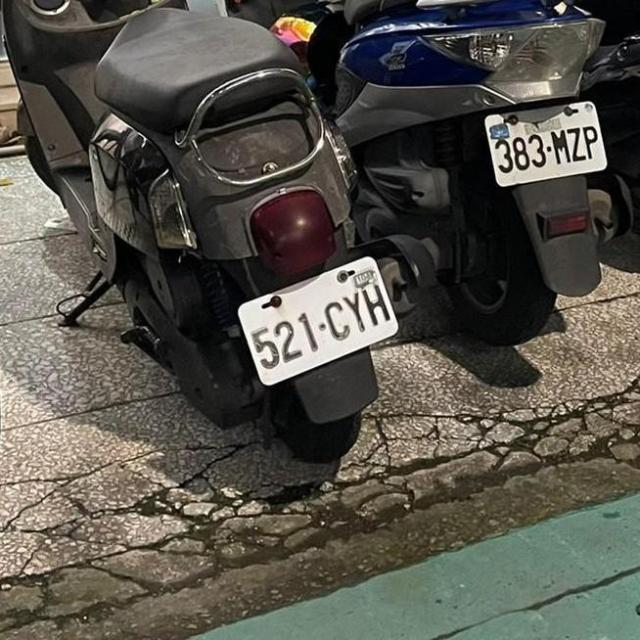W: (230, 248, 411, 390), (478, 92, 618, 195)
